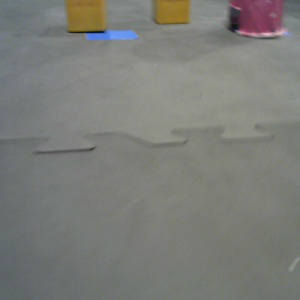Right: (228, 2, 287, 37)
